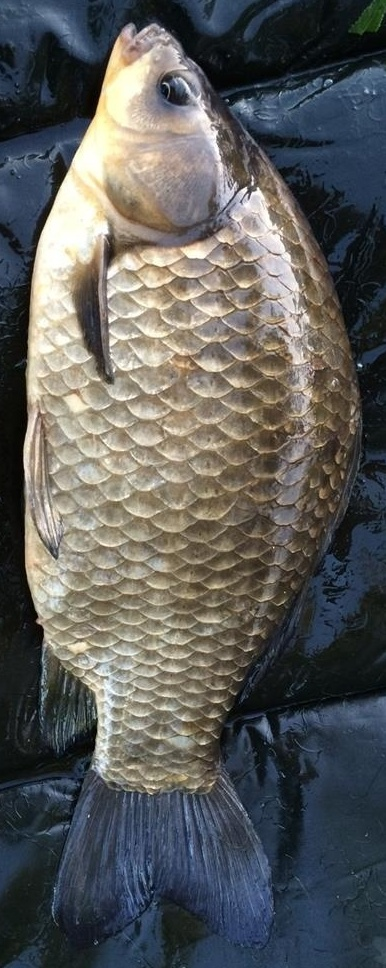Carassius carassius: (20, 20, 366, 948)
